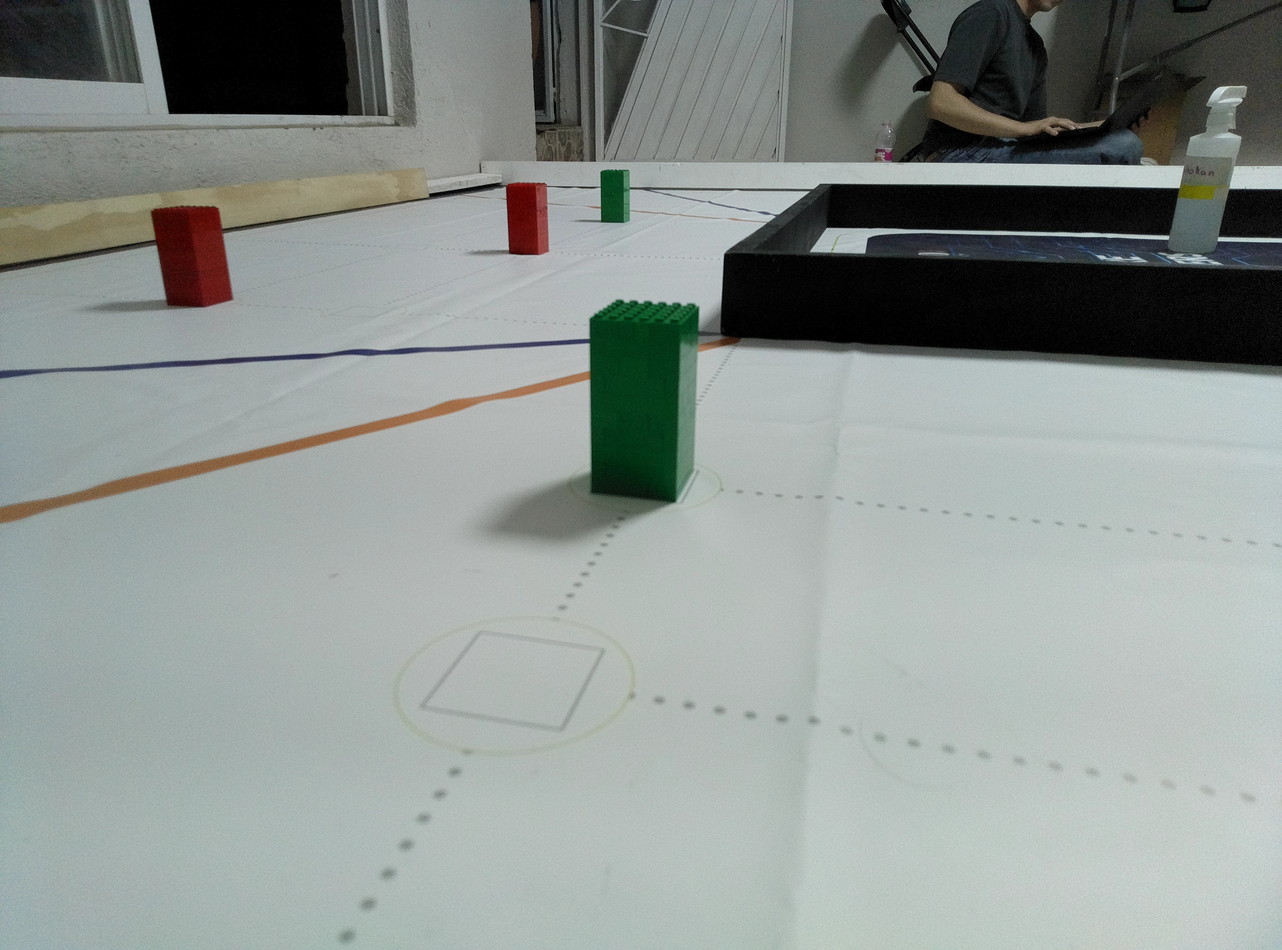greenbox: (588, 297, 699, 503), (600, 169, 630, 223)
redbox: (149, 205, 234, 308), (506, 182, 550, 255)
